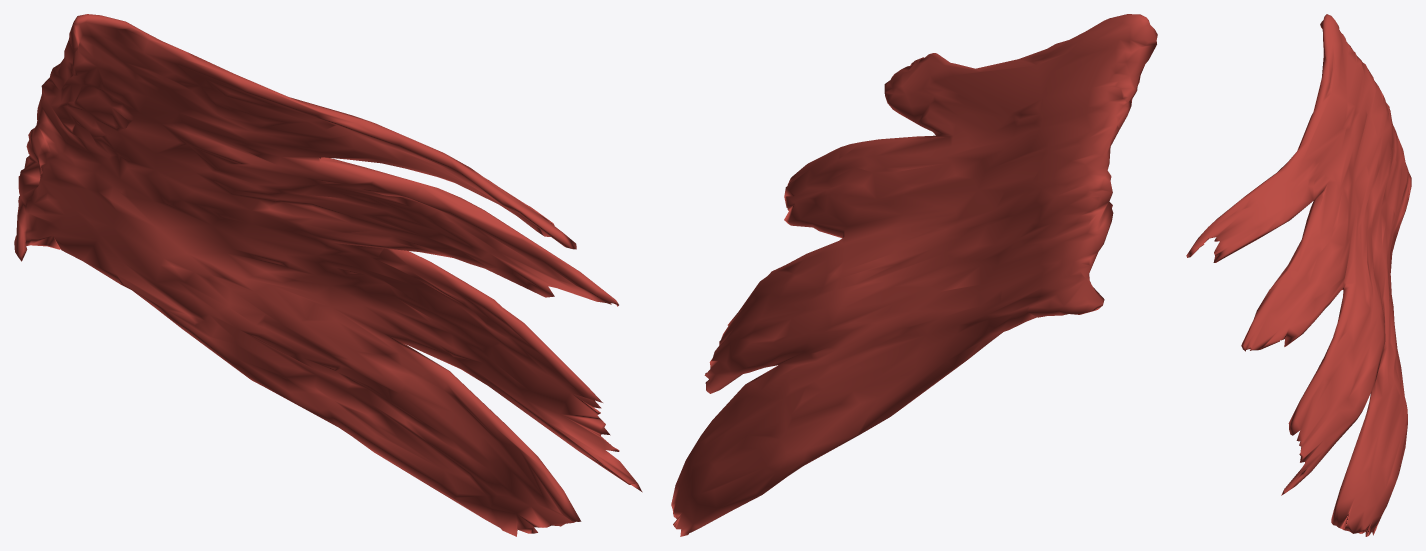
The model's file is musculos-serratus-posterior-superior-muscle-l.glb.
The picture shows the model from 3 angles, left to right: view 1: azimuth 30°, elevation 25°; view 2: azimuth 150°, elevation 25°; view 3: azimuth 270°, elevation 25°; orthographic projection. The views are drawn at different scales.
Parts seen in each view (by area): view 1: Serratus posterior superior muscle.l; view 2: Serratus posterior superior muscle.l; view 3: Serratus posterior superior muscle.l.
Part boxes in pixels (<box>): Serratus posterior superior muscle.l: <box>14,14,642,536</box>; Serratus posterior superior muscle.l: <box>671,14,1157,536</box>; Serratus posterior superior muscle.l: <box>1186,14,1411,536</box>.
Size of the model in its own units: 0.1053 by 0.1257 by 0.0664.
